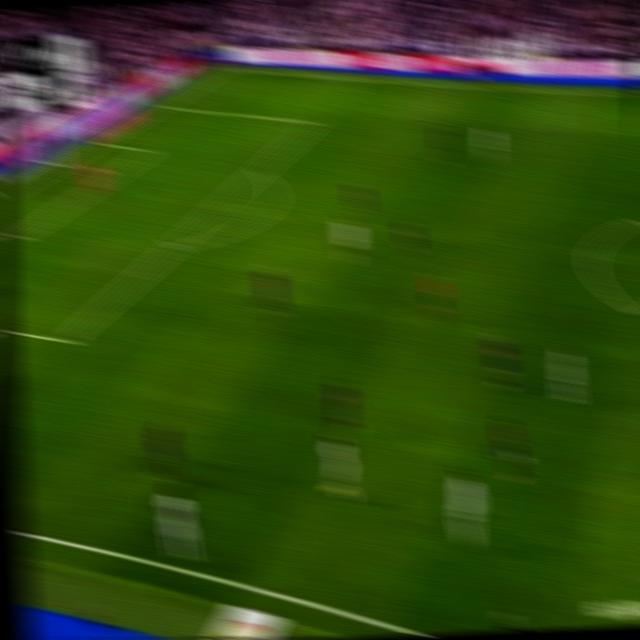bigarea_bottom_inner: (54, 327, 76, 354)
bigarea_top_inner: (304, 114, 321, 129)
bigarea_top_outter: (152, 98, 168, 109)
bottom_arc_area_intersection: (164, 234, 187, 255)
corner: (211, 61, 230, 72)
smallarea_bottom_inner: (8, 225, 29, 245)
smallarea_top_inner: (141, 143, 156, 154)
top_arc_area_intersection: (249, 161, 269, 179)
